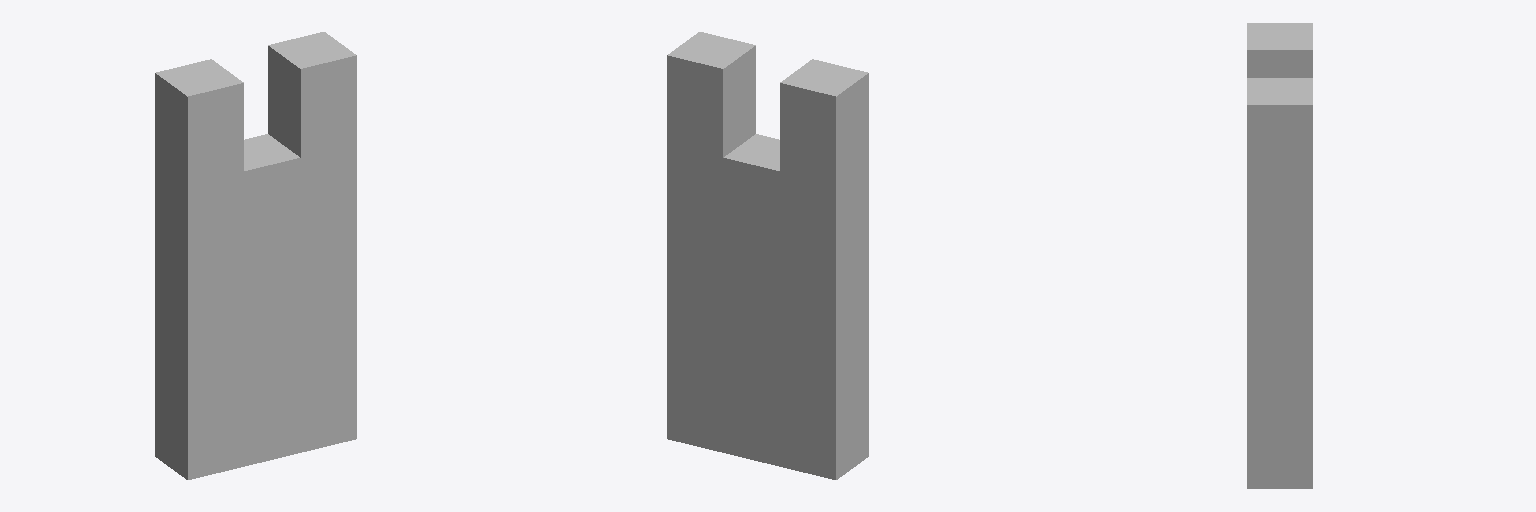
The model's file is knight-custom-black.obj.
The picture shows the model from 3 angles: view 1: azimuth 30°, elevation 25°; view 2: azimuth 150°, elevation 25°; view 3: azimuth 270°, elevation 25°; orthographic projection.
Visible parts, largest first — view 1: Plane; view 2: Plane; view 3: Plane.
Boxes of the visible parts, x1,y1,x2,y2 form: Plane: [155, 32, 356, 479]; Plane: [667, 32, 868, 479]; Plane: [1247, 23, 1312, 488].
Bounding box in the file's own units: 0.6 × 1.3 × 0.2.